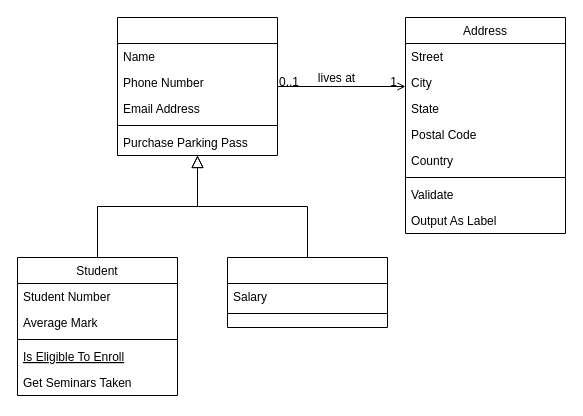
This 583x416 diagram has some shape labels left out. Each missing label, with the box of its shape:
Professor: (226, 256, 388, 328)
uni: (116, 16, 278, 156)
